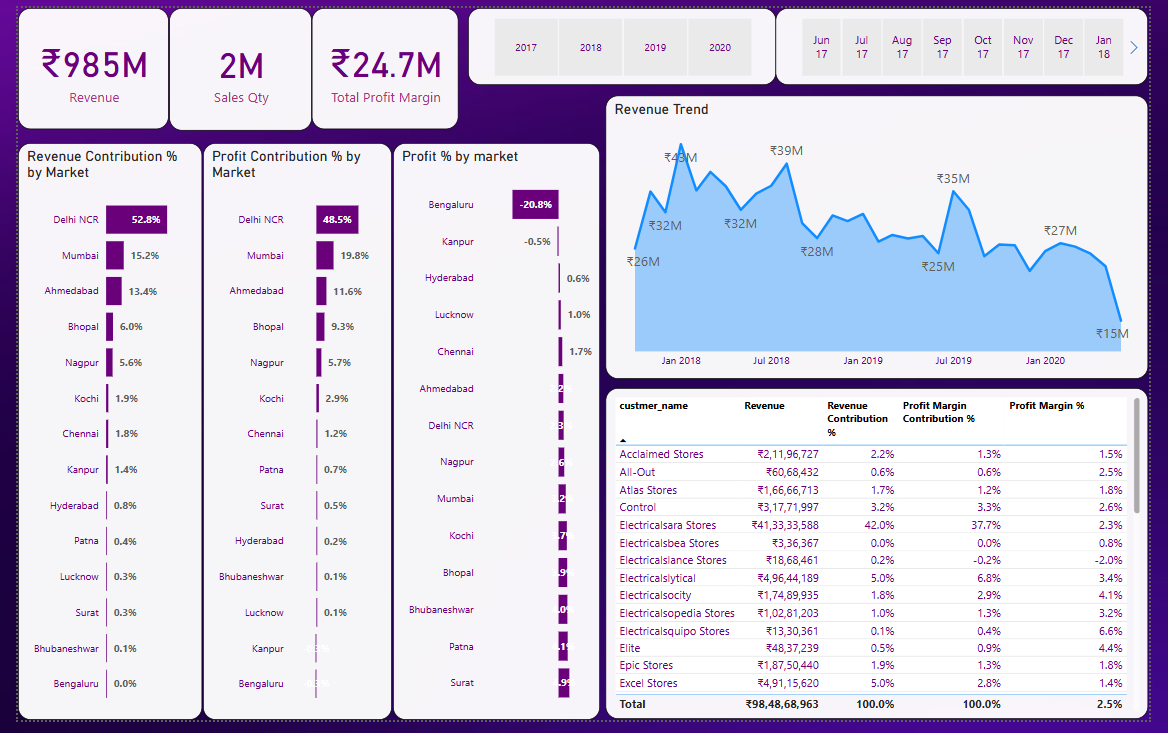

The dashboard page shown, as its layout file describes it:
{"tool":"powerbi","page":{"name":"Profit Analysis","canvas":[1350,850],"ordinal":1},"visuals":[{"type":"card","fields":{"Values":["BaseMeasures (2).Revenue"]},"box":[0,0,180,145],"z":0},{"type":"card","fields":{"Values":["BaseMeasures (2).Sales Qty"]},"box":[180,0,170,146.7],"z":1000},{"type":"barChart","title":"Profit % by market","fields":{"Y":["BaseMeasures (2).Profit Margin %"],"Category":["sales markets.markets_name"]},"box":[447.2,160.6,247.5,688.9],"z":2000},{"type":"barChart","title":"Profit Contribution % by Market","fields":{"Y":["BaseMeasures (2).Profit Margin Contribution %"],"Category":["sales markets.markets_name"]},"box":[221.4,160.6,225.8,688.9],"z":3000},{"type":"slicer","fields":{"Values":["sales date.year"]},"box":[536.7,0,368.3,91.7],"z":4000},{"type":"slicer","fields":{"Values":["sales date.cy_date"]},"box":[905,0,445,91.7],"z":5000},{"type":"tableEx","title":"Top 5 Customers","fields":{"Values":["sales customers.custmer_name","BaseMeasures (2).Revenue","BaseMeasures (2).Revenue Contribution %","BaseMeasures (2).Profit Margin Contribution %","BaseMeasures (2).Profit Margin %"]},"box":[701.9,454.2,648.3,395.4],"z":6000},{"type":"lineChart","title":"Revenue Trend","fields":{"Y":["BaseMeasures (2).Revenue"],"Category":["sales date.cy_date"]},"box":[701.7,105,648.3,338.3],"z":7000},{"type":"card","fields":{"Values":["BaseMeasures (2).Total Profit Margin"]},"box":[350,0,175,145],"z":8000},{"type":"barChart","title":"Revenue Contribution % by Market","fields":{"Y":["BaseMeasures (2).Revenue Contribution %"],"Category":["sales markets.markets_name"]},"box":[0,160.6,220,688.9],"z":9000}]}

Visuals, with their boxes in screenshot pixels (x1, y1, x2, y2), scaled from the page's 1350x850 canvas onto the 1168x733 screenshot:
card - BaseMeasures (2).Revenue: {"x1": 0, "y1": 0, "x2": 156, "y2": 125}
card - BaseMeasures (2).Sales Qty: {"x1": 156, "y1": 0, "x2": 303, "y2": 127}
"Profit % by market" barChart: {"x1": 387, "y1": 138, "x2": 601, "y2": 732}
"Profit Contribution % by Market" barChart: {"x1": 192, "y1": 138, "x2": 387, "y2": 732}
slicer - sales date.year: {"x1": 464, "y1": 0, "x2": 783, "y2": 79}
slicer - sales date.cy_date: {"x1": 783, "y1": 0, "x2": 1167, "y2": 79}
"Top 5 Customers" tableEx: {"x1": 607, "y1": 392, "x2": 1167, "y2": 732}
"Revenue Trend" lineChart: {"x1": 607, "y1": 91, "x2": 1167, "y2": 382}
card - BaseMeasures (2).Total Profit Margin: {"x1": 303, "y1": 0, "x2": 454, "y2": 125}
"Revenue Contribution % by Market" barChart: {"x1": 0, "y1": 138, "x2": 190, "y2": 732}
